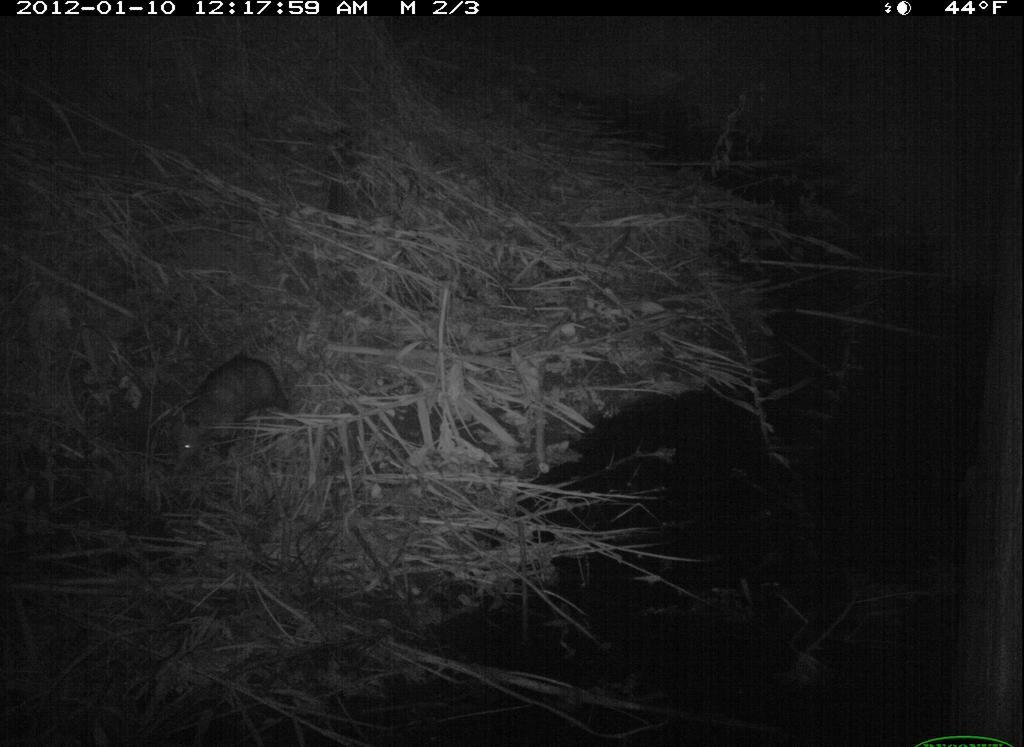opossum: (159, 349, 308, 477)
